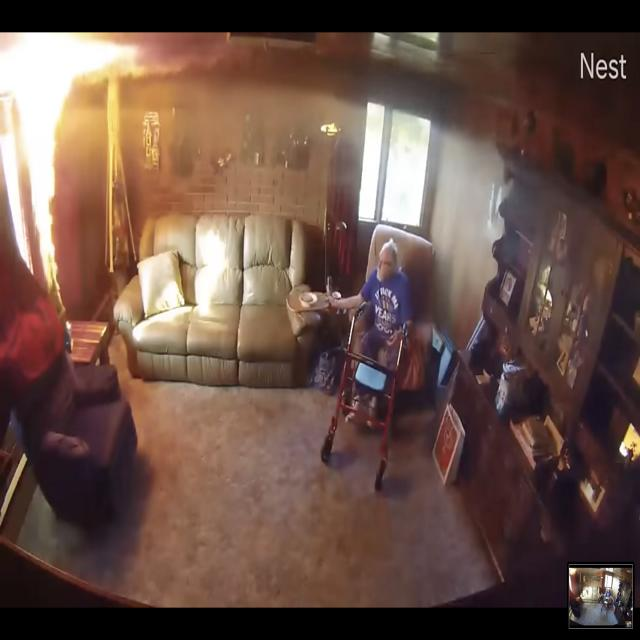Fogo: (7, 36, 170, 402)
